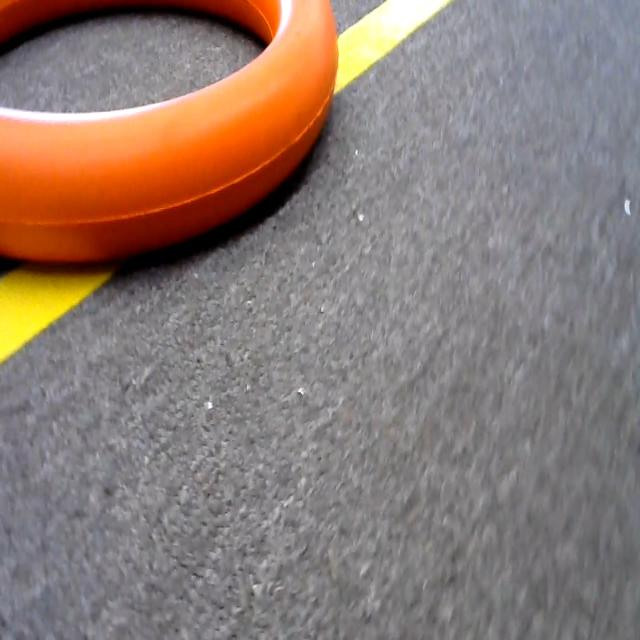note: (0, 0, 346, 255)
